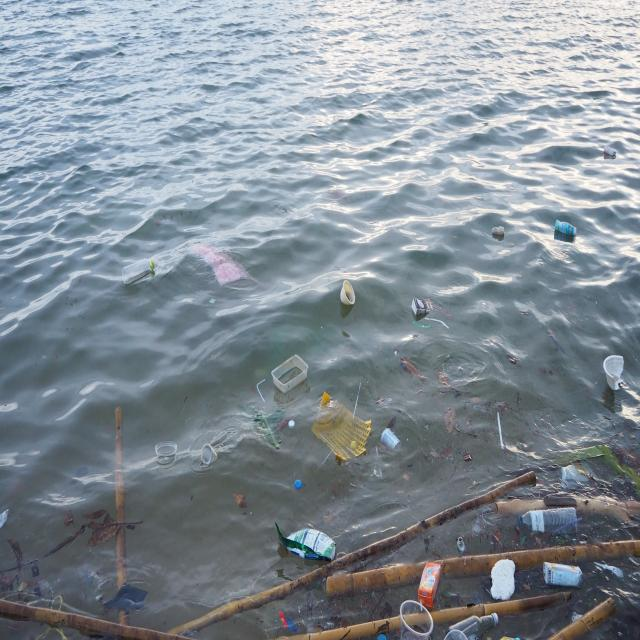foam: (490, 558, 517, 601), (602, 352, 624, 392)
plastic: (518, 508, 579, 534), (448, 612, 501, 640), (123, 256, 156, 286), (554, 218, 578, 239), (604, 145, 617, 158), (492, 227, 505, 236)
plastic bottle: (275, 520, 337, 563), (271, 354, 309, 394), (398, 600, 434, 640), (379, 426, 402, 452), (155, 439, 177, 466), (201, 442, 219, 466), (339, 279, 355, 306)
unknow: (312, 389, 371, 462), (190, 240, 252, 287), (102, 582, 148, 610), (418, 560, 441, 611), (541, 562, 584, 588), (558, 462, 597, 488), (412, 296, 434, 316)
